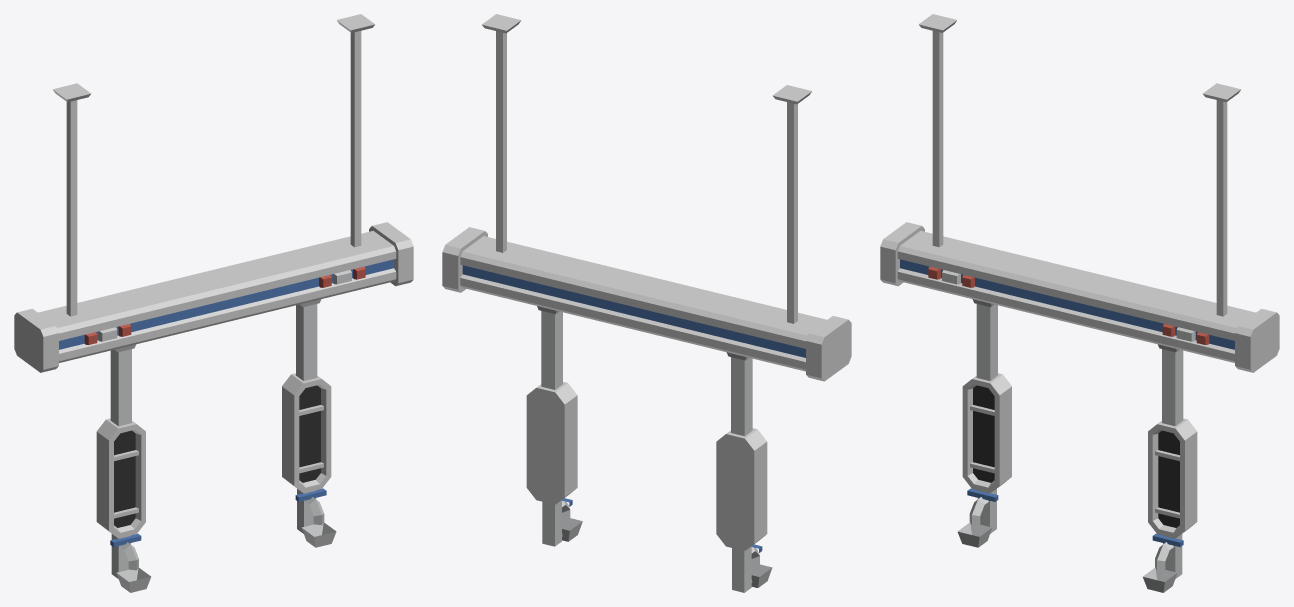
Rendered from overhead-service-spine-04edae.glb.
3 views of the same model, side by side, from view 1: azimuth 30°, elevation 25°; view 2: azimuth 150°, elevation 25°; view 3: azimuth 330°, elevation 25° (orthographic). The views are drawn at different scales.
Visible parts, largest first — view 1: spine; view 2: spine; view 3: spine.
Boxes of the visible parts, x1,y1,x2,y2 form: spine: [14, 14, 413, 592]; spine: [442, 14, 851, 592]; spine: [880, 14, 1279, 592].
Bounding box in the file's own units: 1.2 × 1.54 × 0.188.
